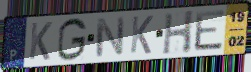E: (194, 8, 227, 53)
G: (56, 17, 88, 62)
H: (162, 9, 196, 56)
K: (28, 21, 54, 62), (129, 15, 155, 56)
N: (94, 16, 126, 59)
